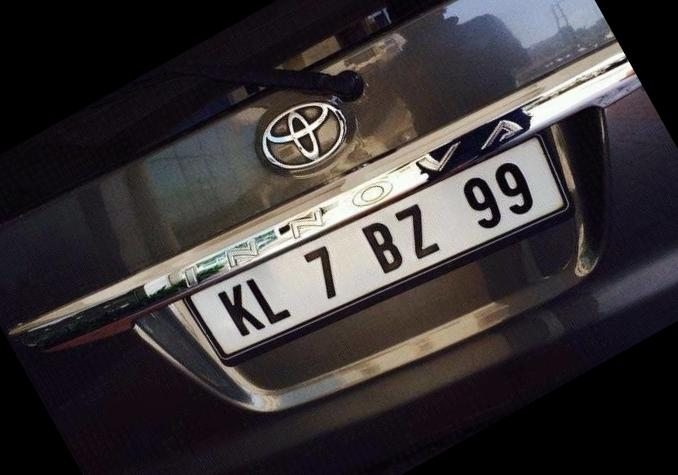plate: (169, 91, 599, 423)
